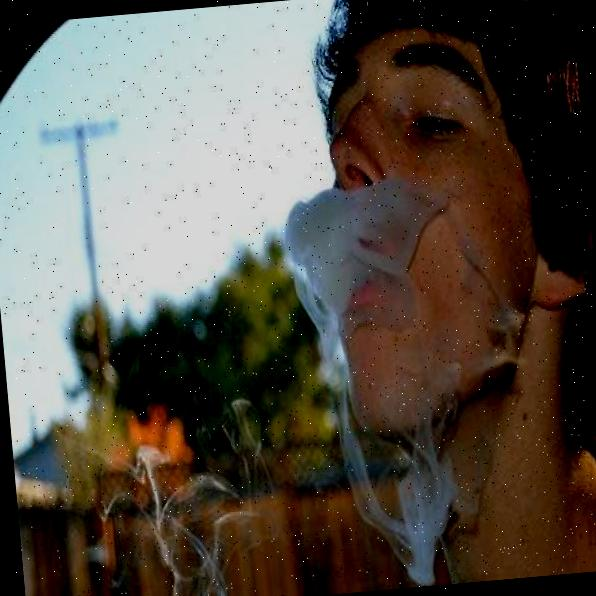smoke: (283, 165, 477, 585)
